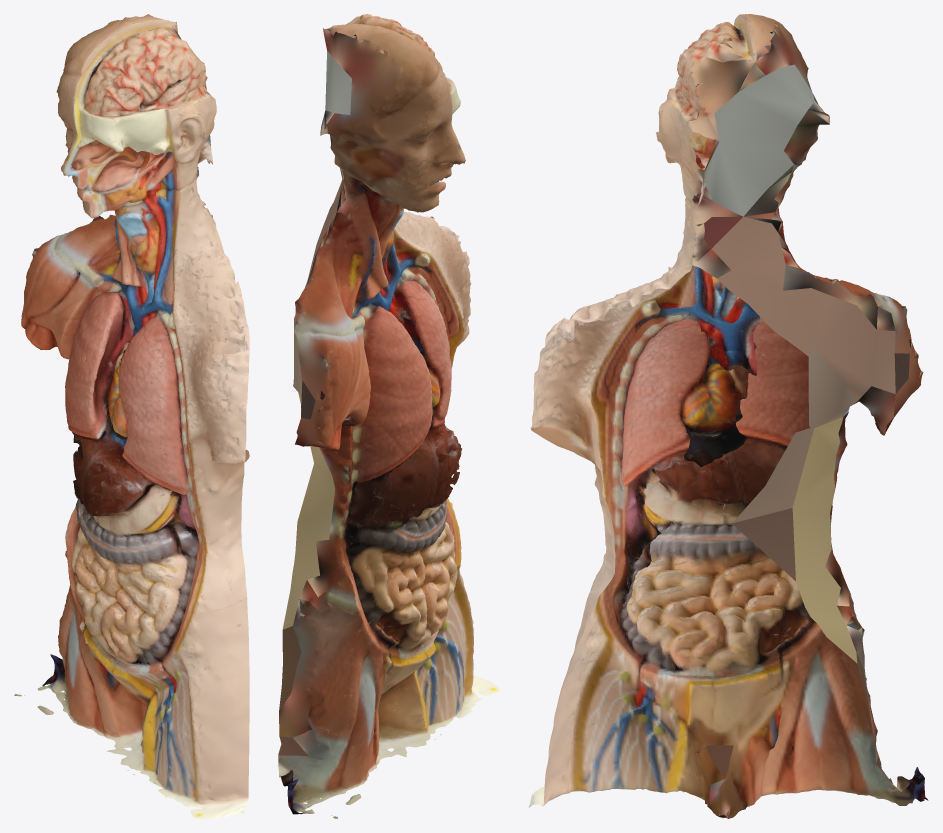
File: anatomy.glb
3 renders of one model, left to right at view 1: azimuth 30°, elevation 25°; view 2: azimuth 150°, elevation 25°; view 3: azimuth 270°, elevation 25°, orthographic. The views are drawn at different scales.
Visible parts, largest first — view 1: Object_4, Object_5; view 2: Object_4, Object_5; view 3: Object_4, Object_5.
Boxes of the visible parts, bbox=[...] form: Object_4: bbox=[14, 14, 249, 818]; Object_5: bbox=[29, 187, 249, 564]; Object_4: bbox=[278, 14, 499, 818]; Object_5: bbox=[279, 198, 471, 711]; Object_4: bbox=[528, 14, 928, 818]; Object_5: bbox=[530, 221, 895, 739].
Size of the model in its own units: 0.1687 by 0.837 by 0.3892.
1 material, 1 textured.
